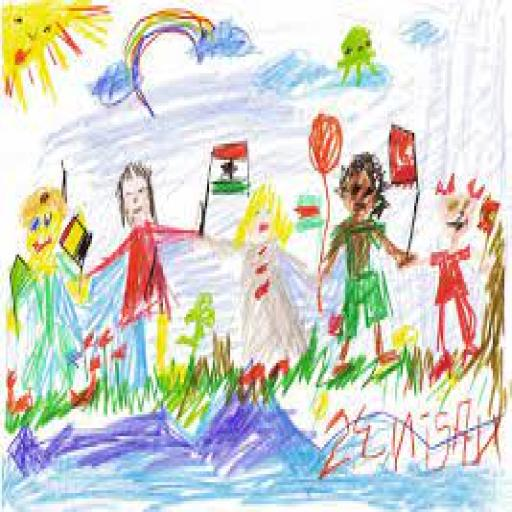person: (86, 158, 197, 394), (8, 158, 98, 443), (206, 182, 318, 408), (314, 150, 416, 380), (418, 170, 499, 380)
